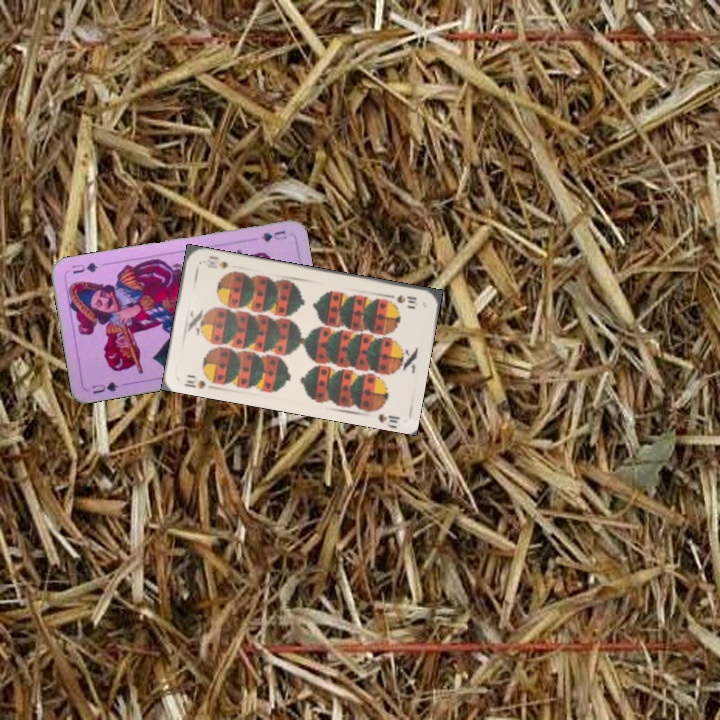GU: (87, 378, 121, 396), (257, 226, 289, 244)
S10: (384, 290, 420, 308), (180, 370, 208, 391)
